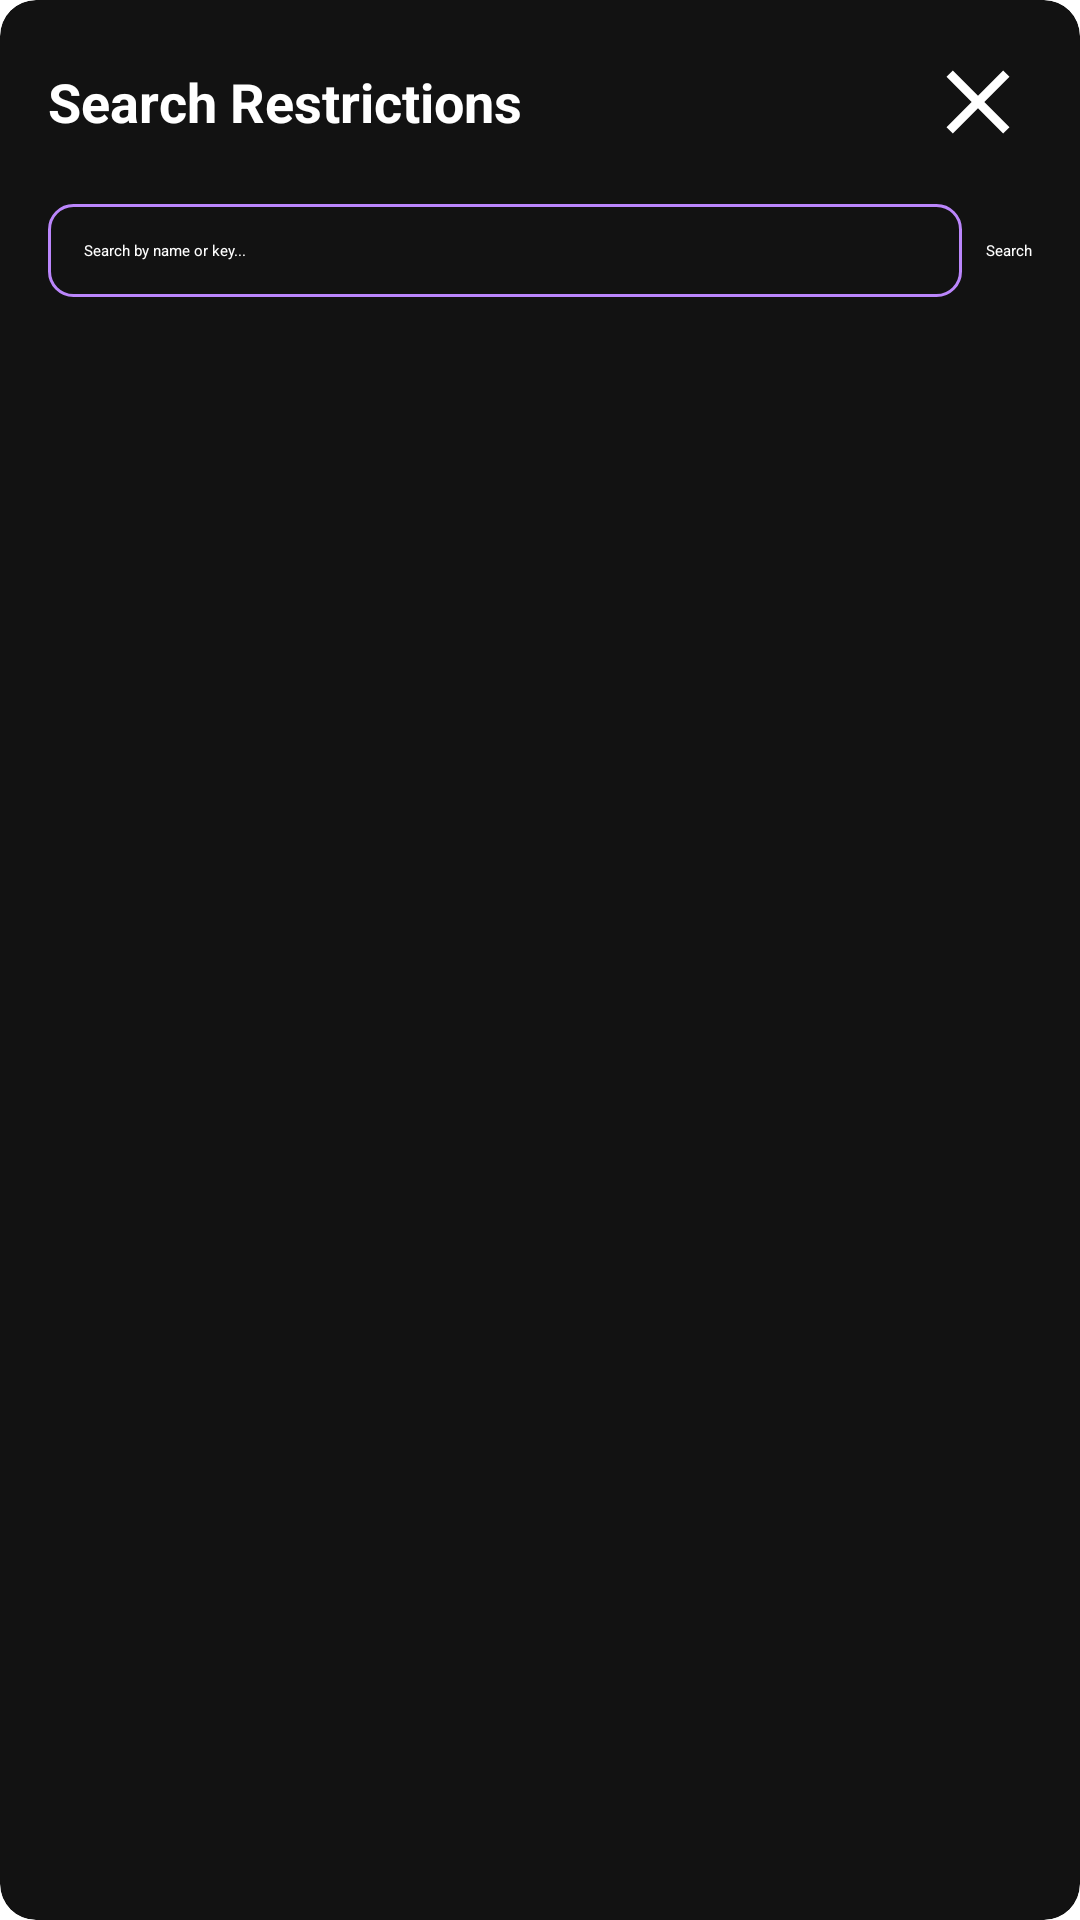

Where to tap for icons on this 1080*1920 app screen, as point (x, y):
Close: point (978, 102)
